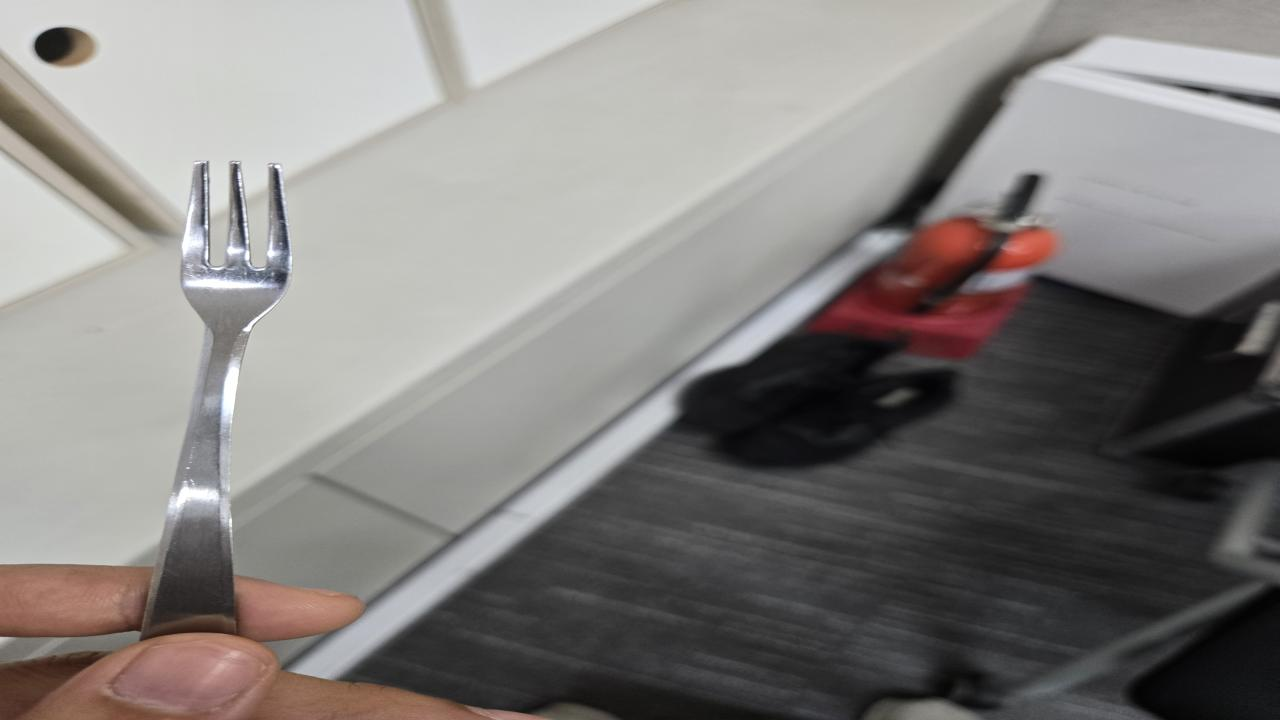fork: (138, 161, 296, 635)
